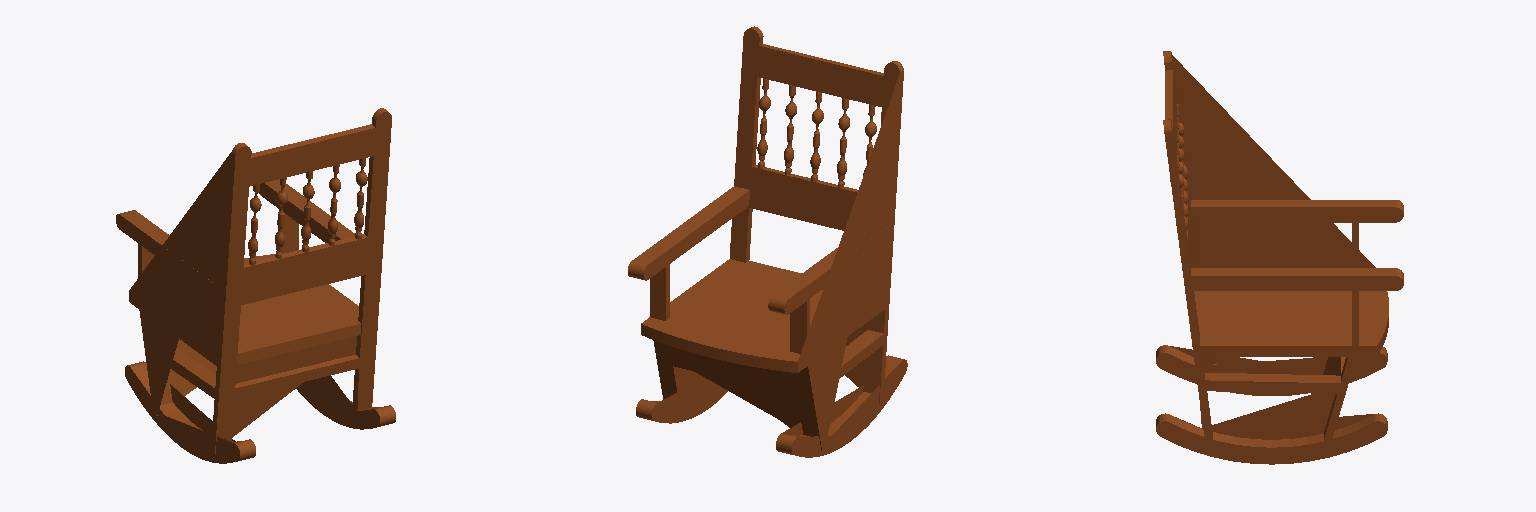
Rendered from sillaM.obj.
3 views of the same model, side by side, from view 1: azimuth 30°, elevation 25°; view 2: azimuth 150°, elevation 25°; view 3: azimuth 270°, elevation 25° (orthographic).
Parts seen in each view (by area): view 1: Mesh6 Revestimiento Silla_Mecedora1 Model, Mesh8 Silla_Mecedora1 Model, Mesh5 Group5 Silla_Mecedora1 Model, Mesh3 Group3 Silla_Mecedora1 Model, Mesh1 Group1 Silla_Mecedora1 Model, Mesh4 Group4 Silla_Mecedora1 Model, Mesh2 Group2 Silla_Mecedora1 Model, Mesh9 Silla_Mecedora1 Model; view 2: Mesh6 Revestimiento Silla_Mecedora1 Model, Mesh8 Silla_Mecedora1 Model, Mesh9 Silla_Mecedora1 Model, Mesh10 Silla_Mecedora1 Model, Mesh2 Group2 Silla_Mecedora1 Model, Mesh4 Group4 Silla_Mecedora1 Model, Mesh3 Group3 Silla_Mecedora1 Model, Mesh5 Group5 Silla_Mecedora1 Model; view 3: Mesh6 Revestimiento Silla_Mecedora1 Model, Mesh7 Silla_Mecedora1 Model.
Boxes of the visible parts, <box> form: Mesh6 Revestimiento Silla_Mecedora1 Model: <box>116,108,395,463</box>; Mesh8 Silla_Mecedora1 Model: <box>149,348,215,398</box>; Mesh5 Group5 Silla_Mecedora1 Model: <box>354,158,367,239</box>; Mesh3 Group3 Silla_Mecedora1 Model: <box>301,171,314,252</box>; Mesh1 Group1 Silla_Mecedora1 Model: <box>248,184,261,265</box>; Mesh4 Group4 Silla_Mecedora1 Model: <box>328,165,340,245</box>; Mesh2 Group2 Silla_Mecedora1 Model: <box>275,177,287,258</box>; Mesh9 Silla_Mecedora1 Model: <box>279,209,298,253</box>; Mesh6 Revestimiento Silla_Mecedora1 Model: <box>628,26,907,457</box>; Mesh8 Silla_Mecedora1 Model: <box>818,330,883,393</box>; Mesh9 Silla_Mecedora1 Model: <box>650,264,669,320</box>; Mesh10 Silla_Mecedora1 Model: <box>790,299,809,354</box>; Mesh2 Group2 Silla_Mecedora1 Model: <box>837,98,849,187</box>; Mesh4 Group4 Silla_Mecedora1 Model: <box>784,85,796,174</box>; Mesh3 Group3 Silla_Mecedora1 Model: <box>810,91,823,181</box>; Mesh5 Group5 Silla_Mecedora1 Model: <box>757,79,770,168</box>; Mesh6 Revestimiento Silla_Mecedora1 Model: <box>1156,51,1403,464</box>; Mesh7 Silla_Mecedora1 Model: <box>1205,373,1340,393</box>.
Size of the model in its own units: 1.16 by 2.41 by 1.59.